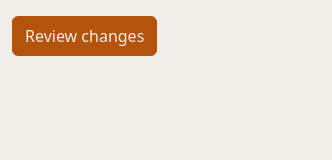
it: Changes › says when there are no changes
Click the button "Review changes".
click(85, 36)  # box [12,16,157,56]
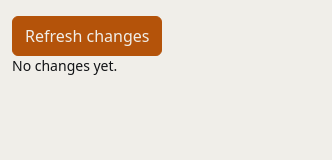
Now the text "No changes yet." is shown, box [12,56,117,75]
